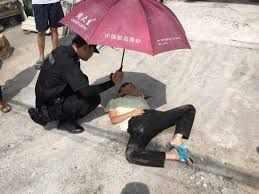fall: (101, 70, 206, 169)
